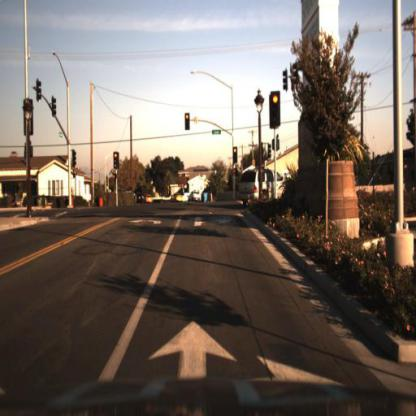car: (238, 170, 282, 213), (170, 191, 186, 207), (169, 190, 184, 206), (135, 188, 148, 206), (143, 192, 156, 210), (189, 191, 201, 203)
trafficLight-Red: (269, 94, 283, 132), (112, 150, 120, 171), (185, 112, 193, 132), (232, 147, 240, 165), (273, 94, 281, 110), (231, 145, 239, 156), (114, 152, 119, 164), (186, 111, 191, 123)
